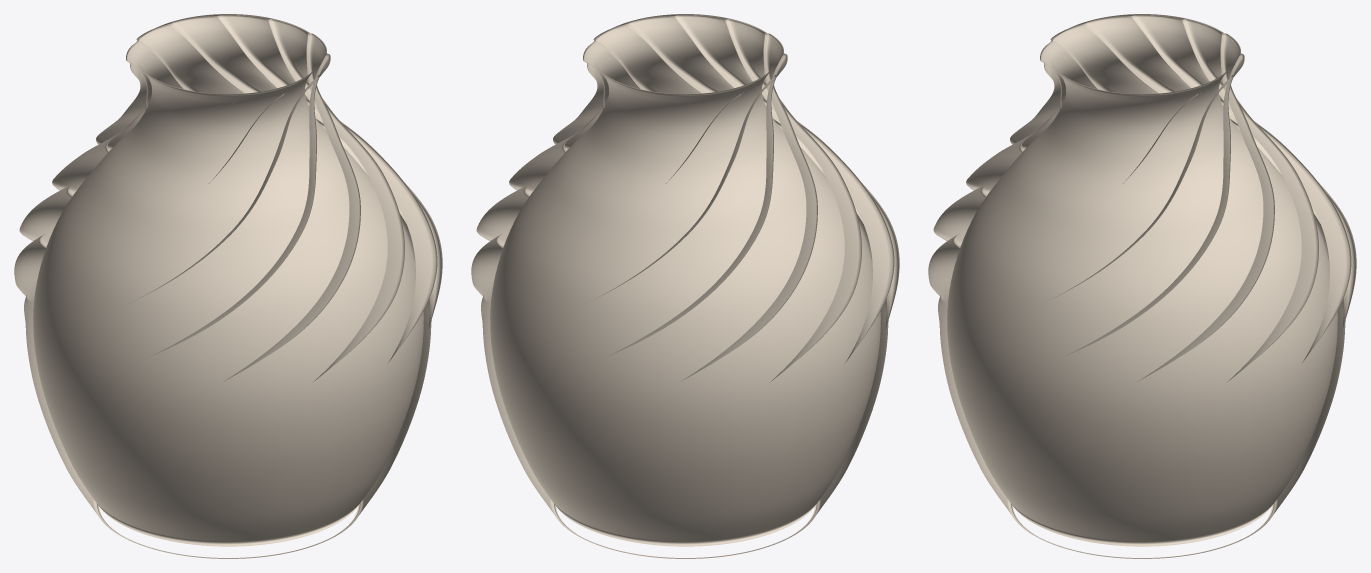
File: vaso-onda-basso.glb
The picture shows the model from 3 angles, left to right: view 1: azimuth 30°, elevation 25°; view 2: azimuth 150°, elevation 25°; view 3: azimuth 270°, elevation 25°; orthographic projection.
Bounding box in the file's own units: 0.174 × 0.2016 × 0.174.
